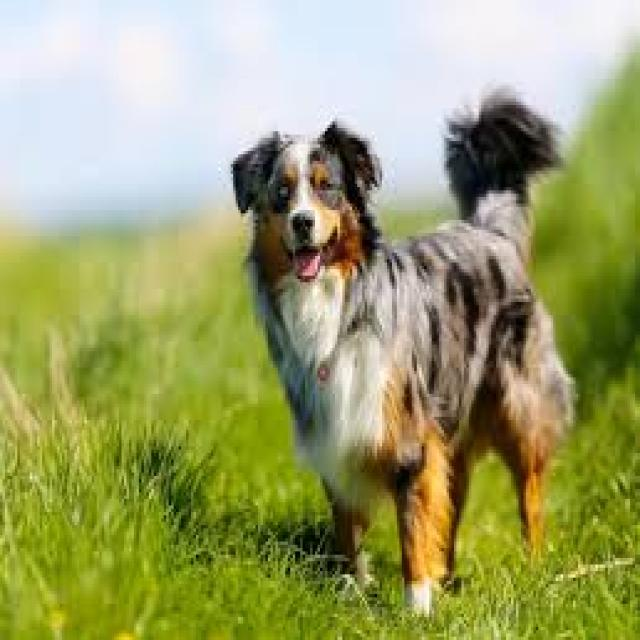ALASKAN_MALAMUTE: (221, 71, 571, 619)
